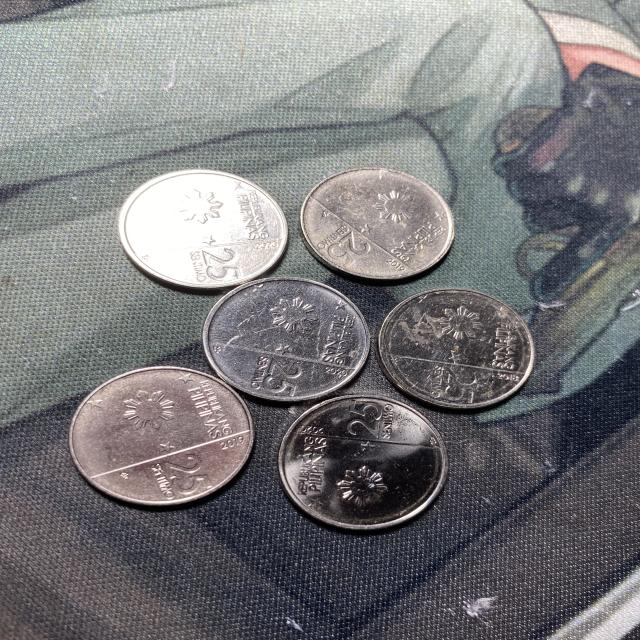25Cent_New_Front: (162, 453, 210, 494), (261, 358, 304, 396), (345, 398, 382, 440), (324, 232, 372, 264), (200, 248, 242, 282), (442, 366, 478, 403)
